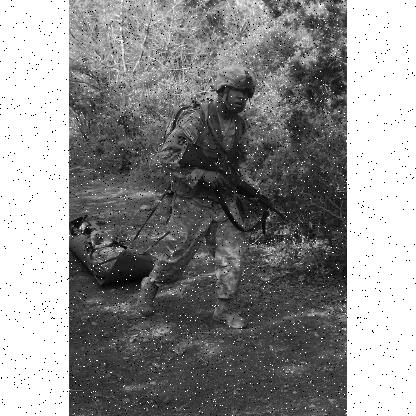gun: (216, 156, 288, 220)
